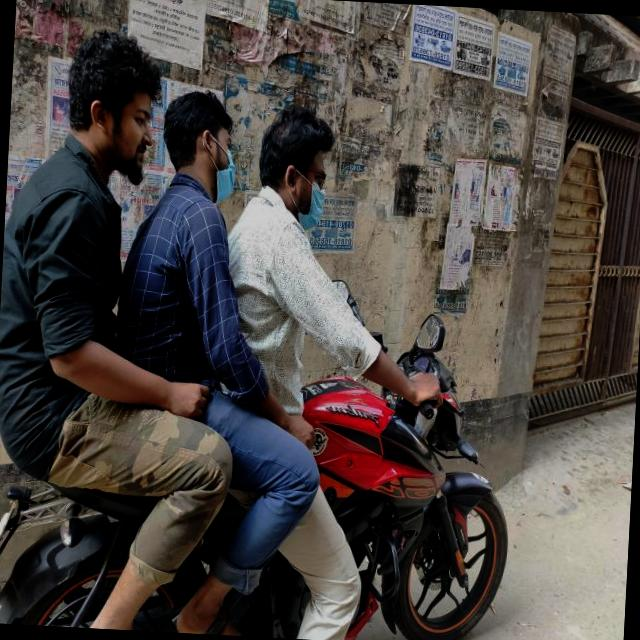motorcycle: (0, 294, 524, 640)
person: (0, 26, 254, 541), (212, 102, 395, 561), (113, 84, 273, 492)
rider_region: (0, 21, 535, 640)
